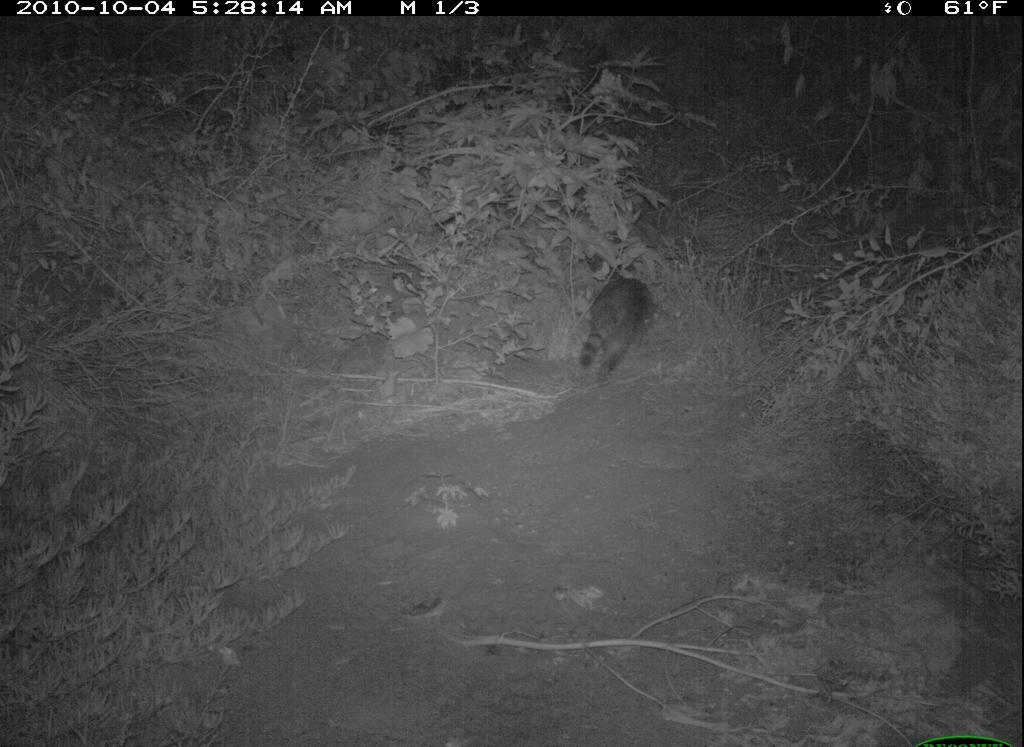raccoon: (576, 275, 660, 391)
